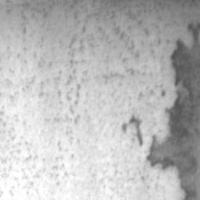patches: (144, 82, 200, 196), (169, 33, 198, 106)
pitted_surface: (0, 0, 170, 200)
